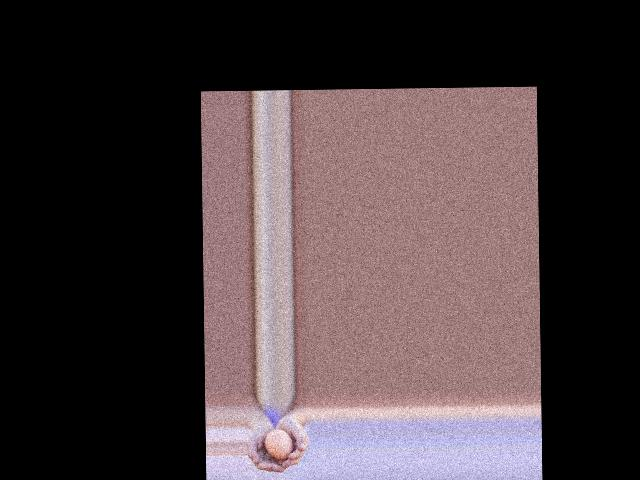egg: (264, 428, 292, 459)
